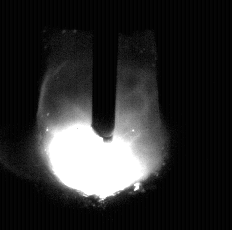arame: (92, 0, 117, 141)
poca: (35, 0, 170, 230)
